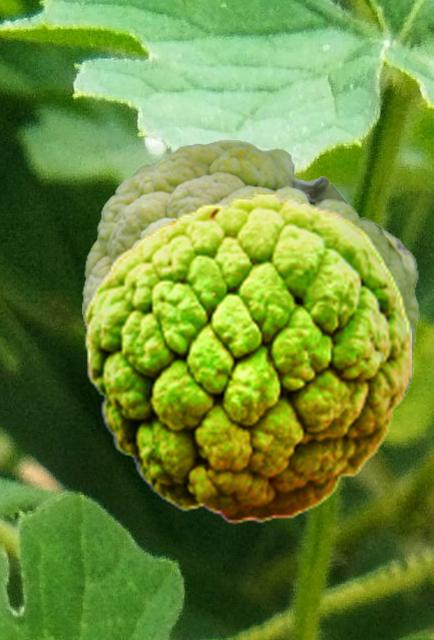atis: (83, 191, 410, 523), (82, 139, 418, 406)
